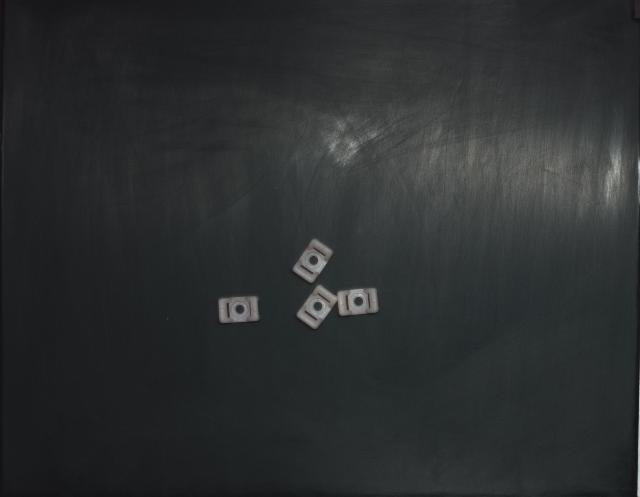first_side: (296, 285, 338, 330), (292, 239, 334, 282), (219, 296, 260, 324), (338, 288, 379, 316)
